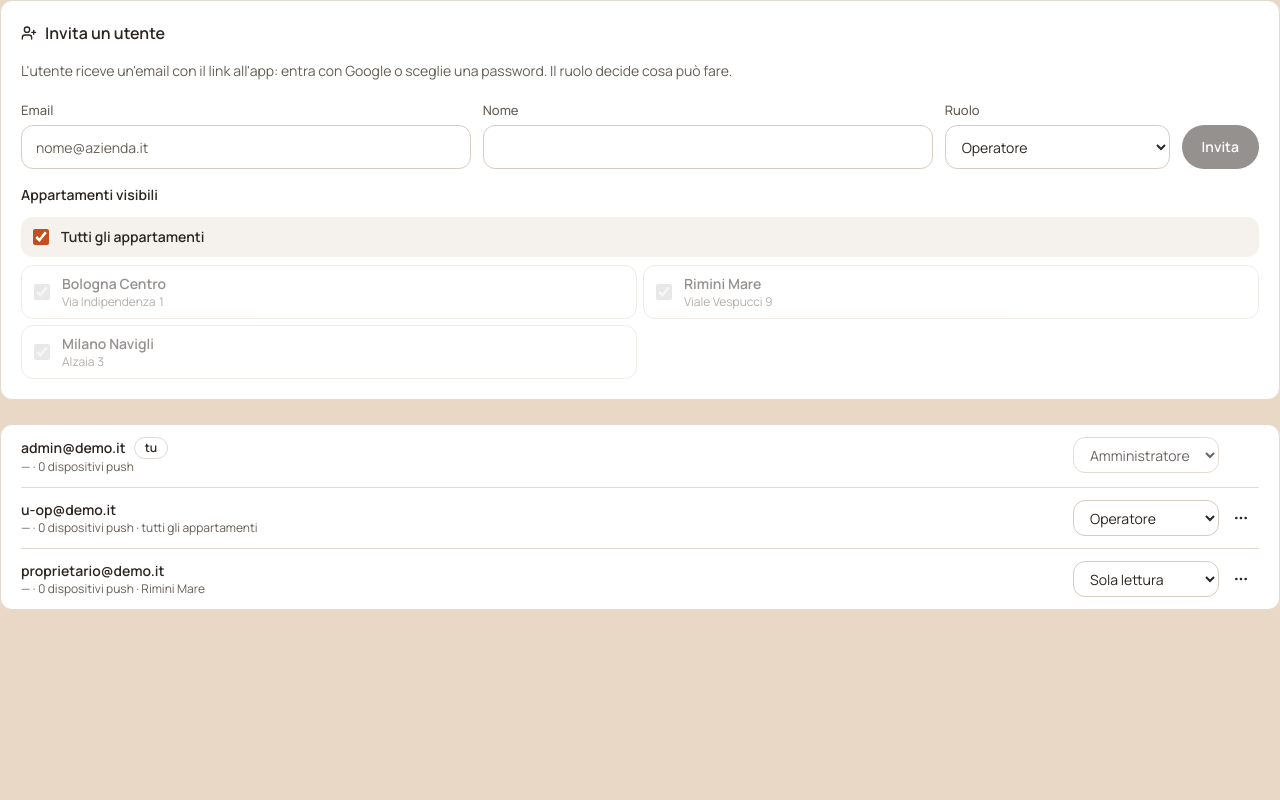
Utenti: invito con gli appartamenti › per operatori e lettori la scelta compare, con «Tutti» già spuntata; scegliendo amministratore sparisce
Check: the element with test id "admin-users-list" is shown, box top-left (0, 424), bottom-right (1279, 610)
Check: the checkbox with test id "admin-invite-scope-all" is checked, box top-left (33, 229), bottom-right (49, 245)
Select "Amministratore" in the dropdown with test id "admin-invite-role". click: coordinates (1057, 147)
box: top-left (945, 125), bottom-right (1170, 169)
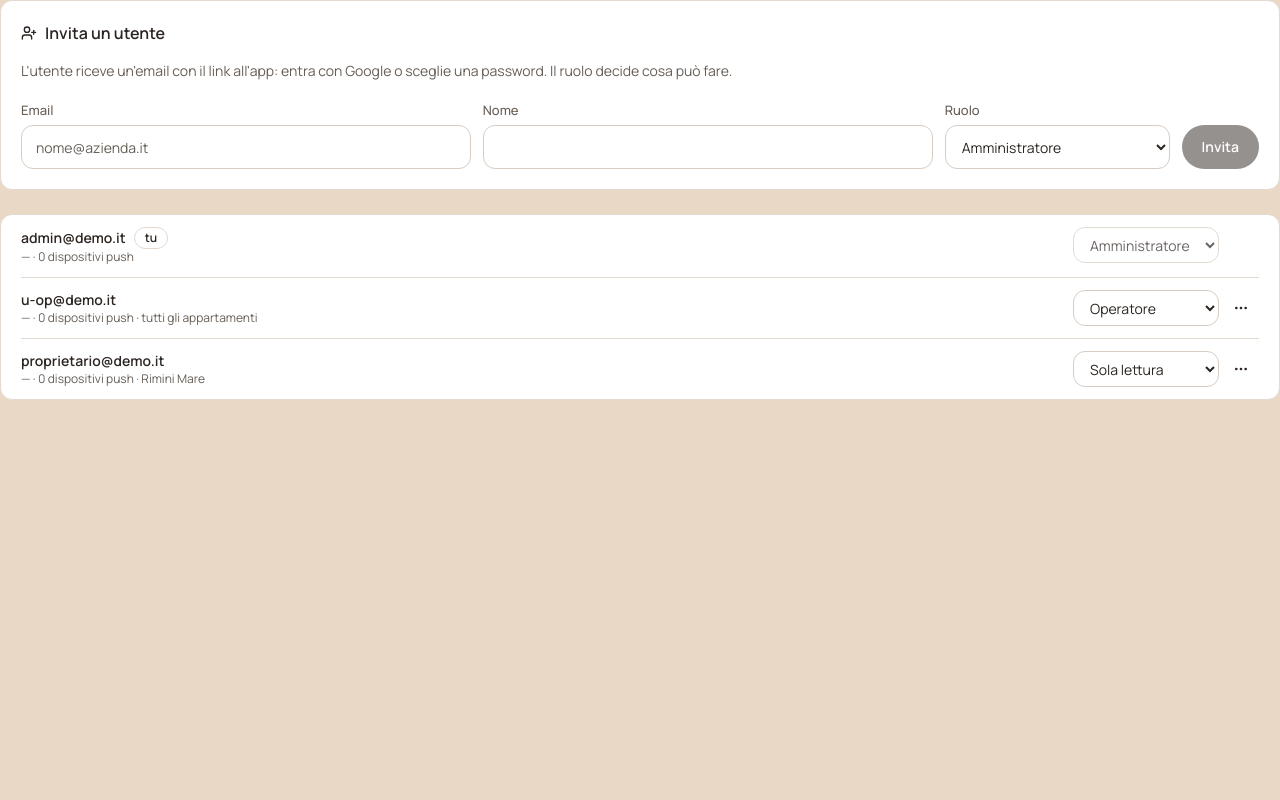
Check: the element with test id "admin-invite-scope" is gone
Select "Sola lettura" in the dropdown with test id "admin-invite-role". click: coordinates (1057, 147)
box: top-left (945, 125), bottom-right (1170, 169)
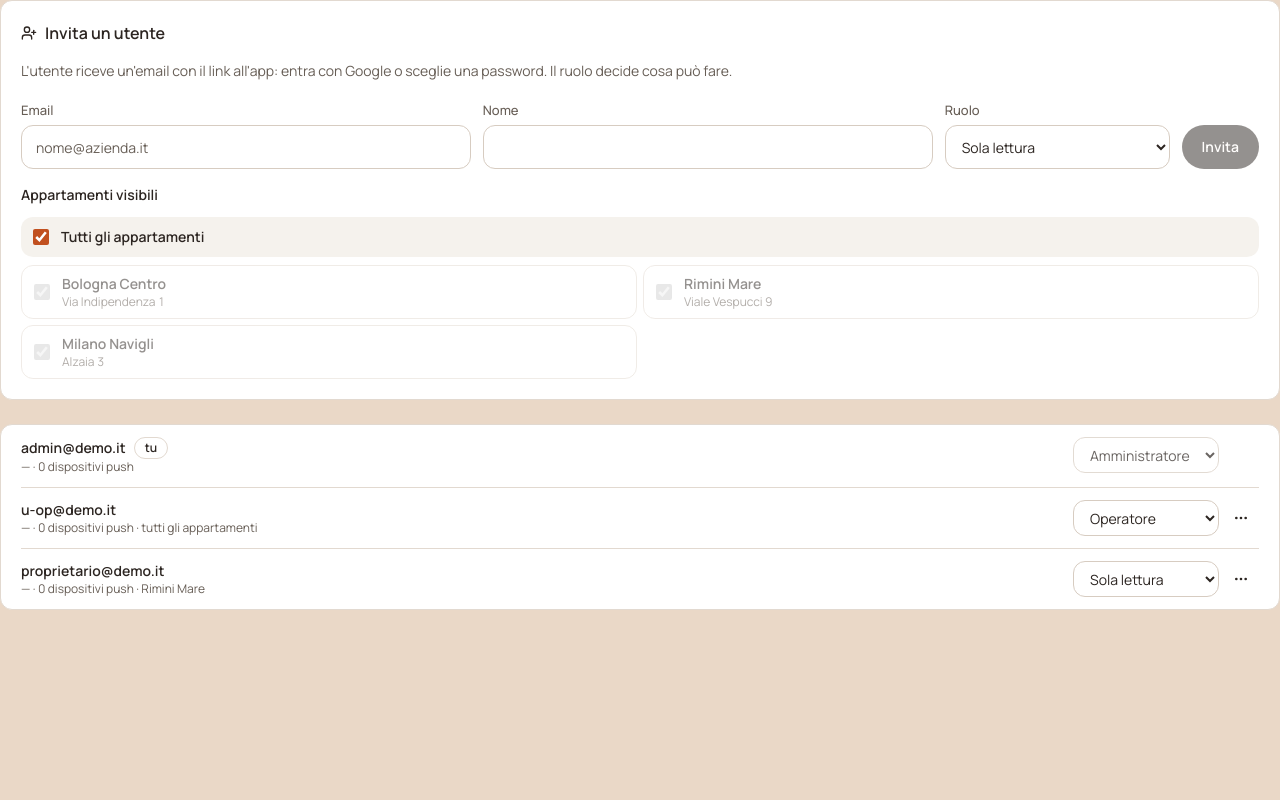
Check: the element with test id "admin-invite-scope" is shown, box top-left (21, 185), bottom-right (1259, 379)
